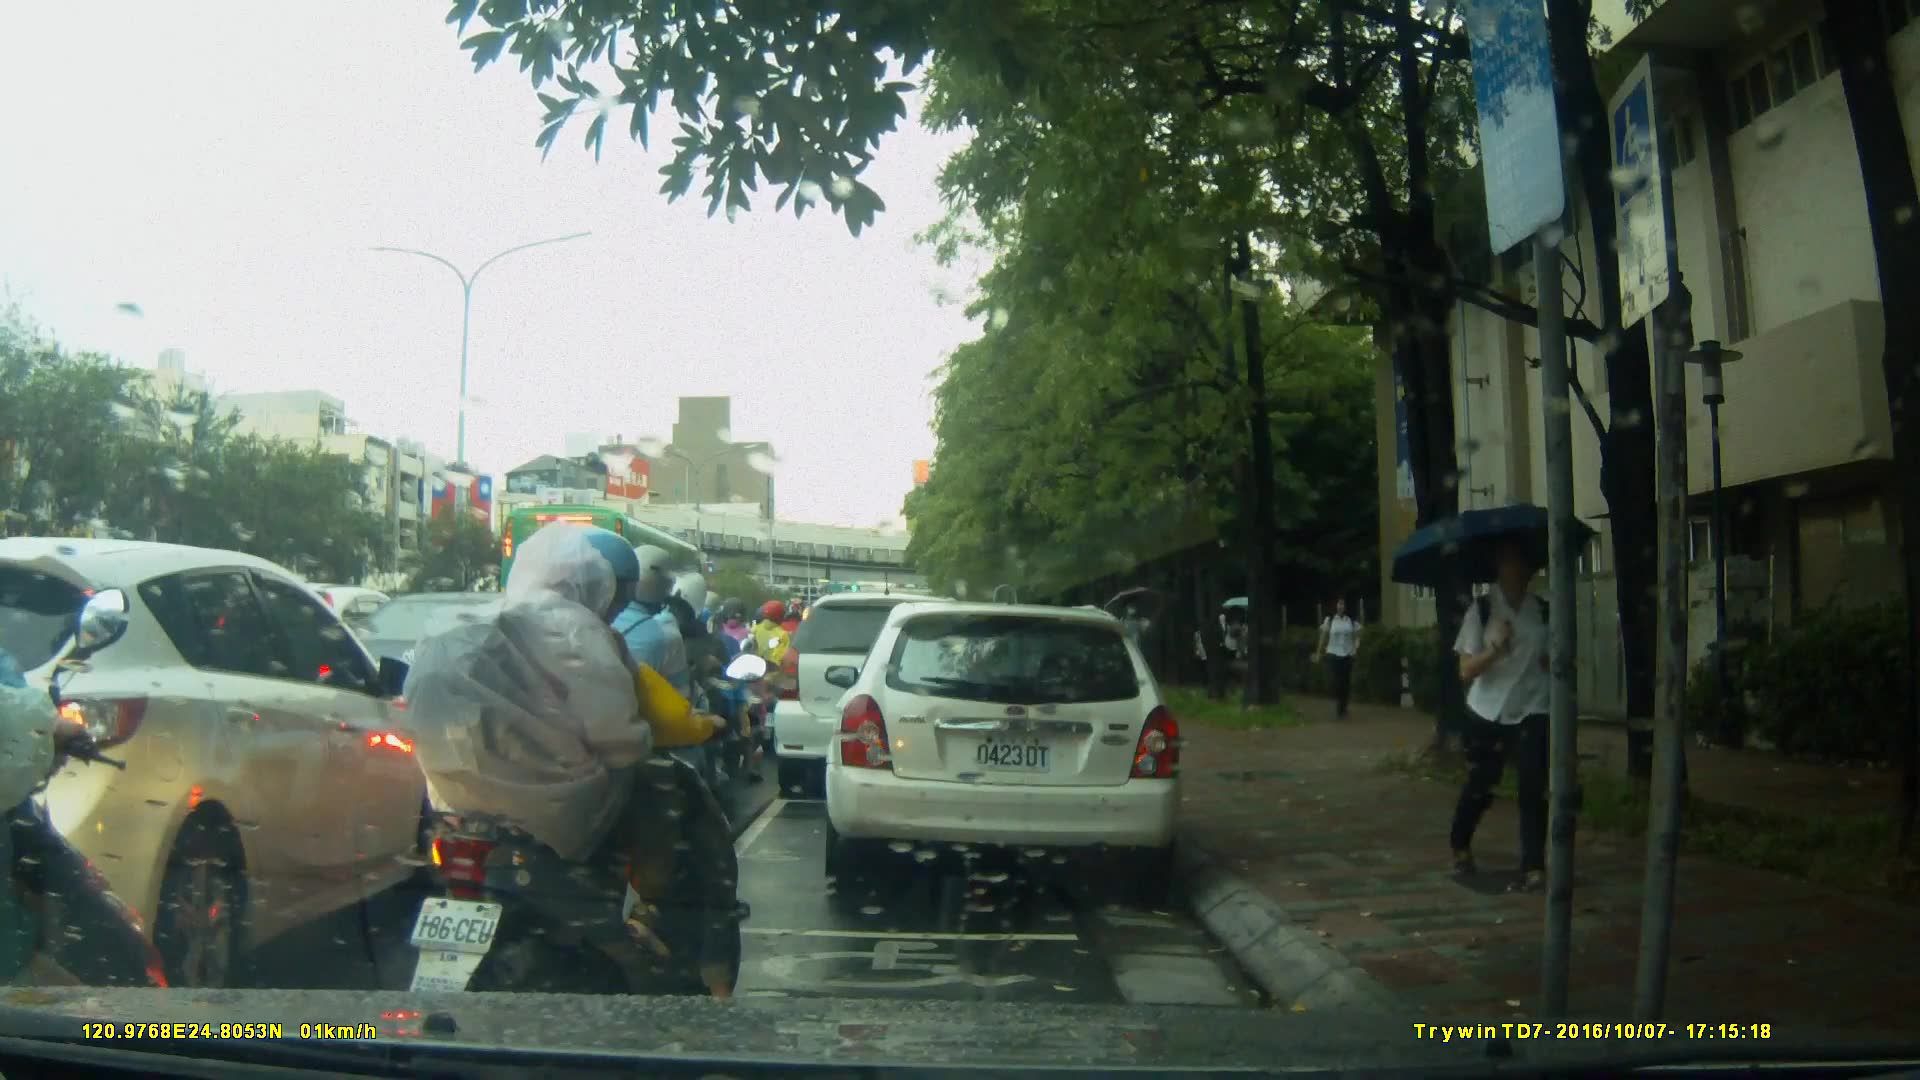pedestrian: (1448, 536, 1598, 880), (1313, 592, 1365, 721), (1117, 595, 1149, 696)
rider: (393, 514, 753, 1073), (1, 585, 176, 1080), (541, 546, 732, 887), (608, 569, 744, 864), (703, 601, 780, 766), (747, 603, 802, 744)
vehicle: (1, 536, 442, 989), (822, 604, 1186, 880), (774, 595, 995, 802), (497, 499, 723, 669)
